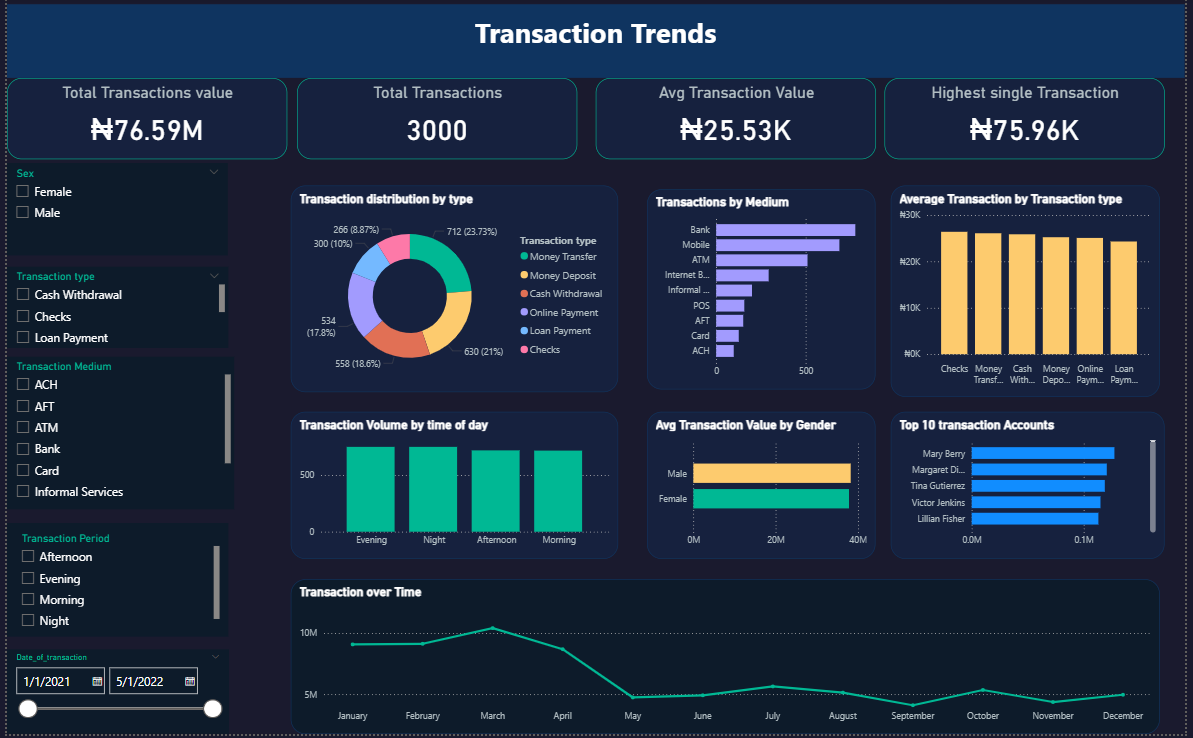

Layout of this report page (visuals, bound fields, positions):
{"tool":"powerbi","page":{"name":"Transaction Trends","canvas":[1600,1000],"ordinal":2},"visuals":[{"type":"card","title":"Total Transactions value","fields":{"Values":["Transaction.Total Transaction Amount"]},"box":[0,108.5,380.9,110.6],"z":0},{"type":"card","title":"Total Transactions","fields":{"Values":["Transaction.Number of Transactions"]},"box":[393.6,108.5,380.9,110.6],"z":1000},{"type":"card","title":"Avg Transaction Value","fields":{"Values":["Transaction.Average Transaction"]},"box":[800,108.5,380.9,110.6],"z":2000},{"type":"card","title":"Highest single Transaction","fields":{"Values":["Transaction.Highest Transaction"]},"box":[1191.5,108.5,380.9,110.6],"z":3000},{"type":"donutChart","title":"Transaction distribution by type","fields":{"Category":["Transaction.Transaction type"],"Y":["CountNonNull(Transaction.Transaction_id)"]},"box":[385.1,255.3,444.7,280.9],"z":4000},{"type":"clusteredBarChart","title":"Transactions by Medium","fields":{"Category":["Transaction.Transaction Medium"],"Y":["CountNonNull(Transaction.Transaction_id)"]},"box":[870.2,259.6,310.6,272.3],"z":5000},{"type":"clusteredColumnChart","title":"Transaction Volume by time of day","fields":{"Category":["Transaction time.Transaction Period"],"Y":["CountNonNull(Transaction.Transaction_id)"]},"box":[385.1,561.7,444.7,200],"z":6000},{"type":"barChart","title":"Avg Transaction Value by Gender","fields":{"Category":["Customer.Sex"],"Y":["Sum(Transaction.Amount)"]},"box":[870.2,561.7,310.6,200],"z":7000},{"type":"lineChart","title":"Transaction over  Time","fields":{"Category":["Transaction.Date_of_transaction.Variation.Date Hierarchy.Year","Transaction.Date_of_transaction.Variation.Date Hierarchy.Quarter","Transaction.Date_of_transaction.Variation.Date Hierarchy.Month","Transaction.Date_of_transaction.Variation.Date Hierarchy.Day"],"Y":["Sum(Transaction.Amount)"]},"box":[385.1,789.4,1180.9,210.6],"z":8000},{"type":"clusteredBarChart","title":"Top 10 transaction  Accounts","fields":{"Category":["Customer.Full name"],"Y":["Sum(Transaction.Amount)"]},"box":[1200,561.7,372.3,200],"z":9000},{"type":"columnChart","fields":{"Y":["Transaction.Average Transaction"],"Category":["Transaction.Transaction type"]},"box":[1200,255.3,366,287.2],"z":10000},{"type":"slicer","fields":{"Values":["Customer.Sex"]},"box":[0,223.4,300,125.5],"z":11000},{"type":"slicer","fields":{"Values":["Transaction.Date_of_transaction"]},"box":[0,884.9,300.6,115.5],"z":12000},{"type":"slicer","fields":{"Values":["Transaction.Transaction type"]},"box":[0,365.2,300.6,110.4],"z":13000},{"type":"slicer","fields":{"Values":["Transaction.Transaction Medium"]},"box":[0,487.4,309.1,207.2],"z":14000},{"type":"slicer","fields":{"Values":["Transaction time.Transaction Period"]},"box":[0,713.3,300.6,154.6],"z":15000},{"type":"textbox","box":[0,8.5,1600,100],"z":16000},{"type":"pageNavigator","box":[1056.4,25.5,543.5,49.3],"z":16001}]}

Visuals, with their boxes in screenshot pixels (x1, y1, x2, y2), scaled from the page's 1600x1000 canvas onto the 1193x738 screenshot:
"Total Transactions value" card: box=[0, 80, 284, 162]
"Total Transactions" card: box=[293, 80, 577, 162]
"Avg Transaction Value" card: box=[596, 80, 881, 162]
"Highest single Transaction" card: box=[888, 80, 1172, 162]
"Transaction distribution by type" donutChart: box=[287, 188, 619, 396]
"Transactions by Medium" clusteredBarChart: box=[649, 192, 880, 393]
"Transaction Volume by time of day" clusteredColumnChart: box=[287, 415, 619, 562]
"Avg Transaction Value by Gender" barChart: box=[649, 415, 880, 562]
"Transaction over  Time" lineChart: box=[287, 583, 1168, 737]
"Top 10 transaction  Accounts" clusteredBarChart: box=[895, 415, 1172, 562]
columnChart - Transaction.Average Transaction x Transaction.Transaction type: box=[895, 188, 1168, 400]
slicer - Customer.Sex: box=[0, 165, 224, 257]
slicer - Transaction.Date_of_transaction: box=[0, 653, 224, 737]
slicer - Transaction.Transaction type: box=[0, 270, 224, 351]
slicer - Transaction.Transaction Medium: box=[0, 360, 230, 513]
slicer - Transaction time.Transaction Period: box=[0, 526, 224, 641]
textbox: box=[0, 6, 1192, 80]
pageNavigator: box=[788, 19, 1192, 55]
